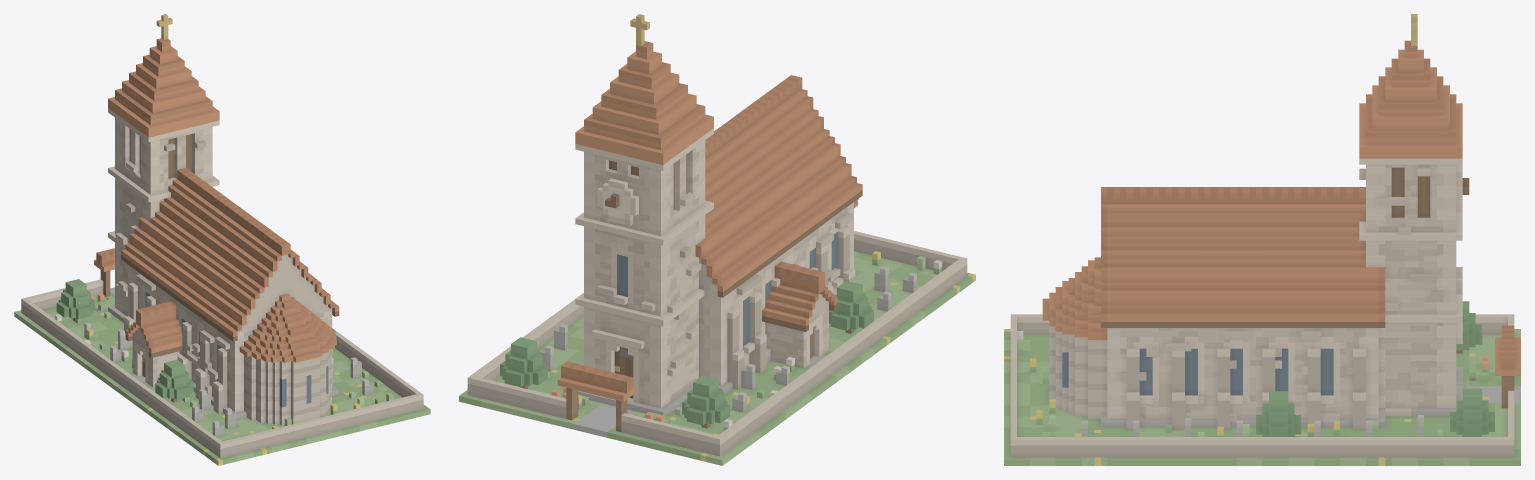
File: church.glb
3 views of the same model, side by side, from view 1: azimuth 30°, elevation 25°; view 2: azimuth 150°, elevation 25°; view 3: azimuth 270°, elevation 25° (orthographic). The views are drawn at different scales.
Visible parts, largest first — view 1: church; view 2: church; view 3: church.
Boxes of the visible parts, bbox=[...] form: church: bbox=[14, 14, 430, 465]; church: bbox=[459, 14, 975, 465]; church: bbox=[1004, 14, 1520, 465].
Size of the model in its own units: 6 by 8.25 by 10.
